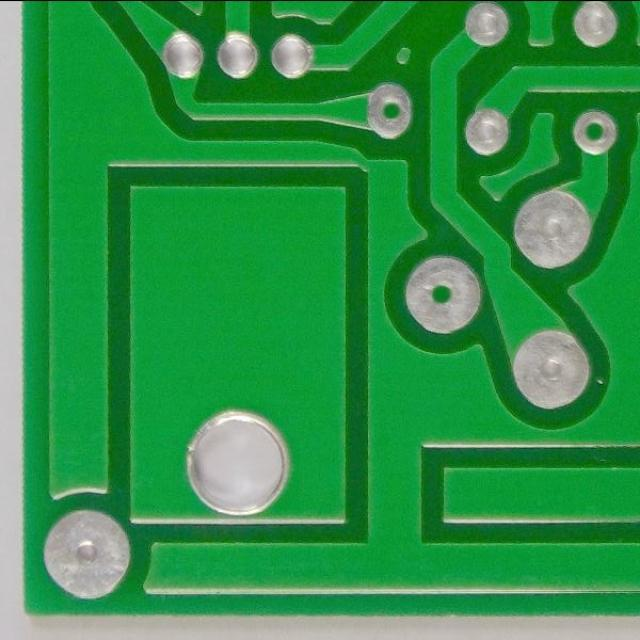Missing_Hole: (394, 251, 490, 339), (361, 80, 420, 144), (564, 107, 626, 159)
